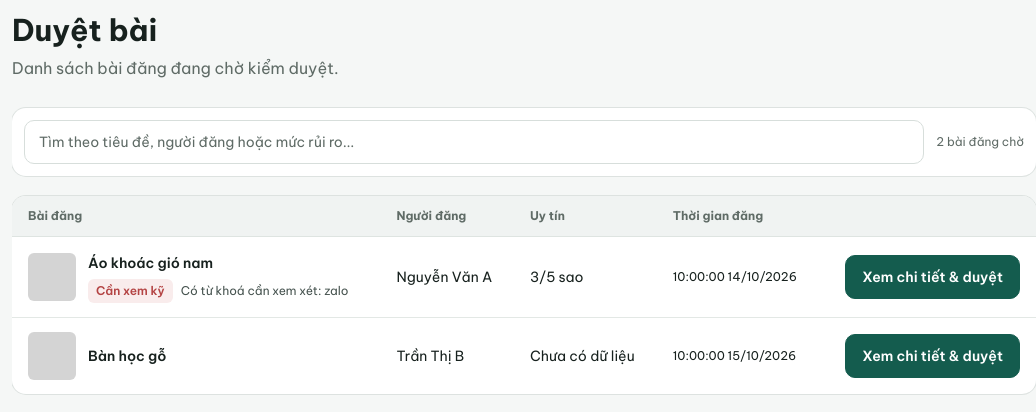
Scenario: AdminModerationList › tìm theo tên người đăng
Expected: the text "Áo khoác gió nam" is shown, [88,254,213,272]
Type "trần thị" into the field named "Tìm bài chờ duyệt" at coordinates (474, 142), box [29,124,919,160]
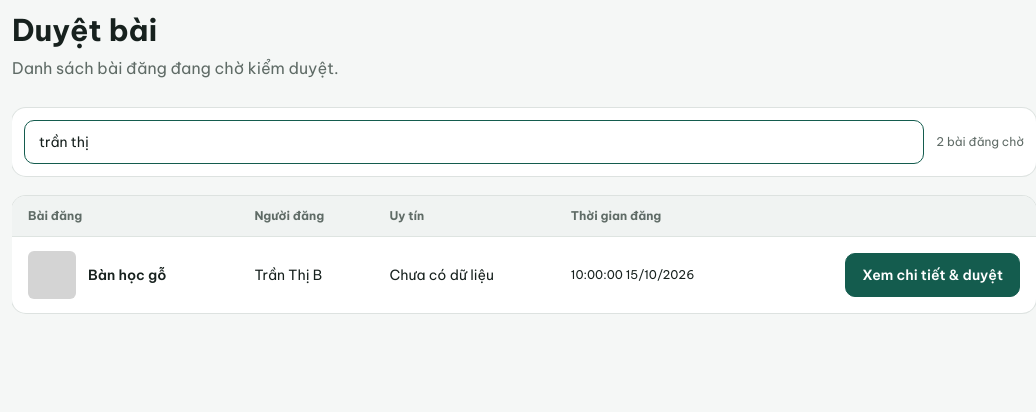
Expected: the text "Bàn học gỗ" is shown, [88,263,166,287]
Expected: the text "Áo khoác gió nam" is gone
